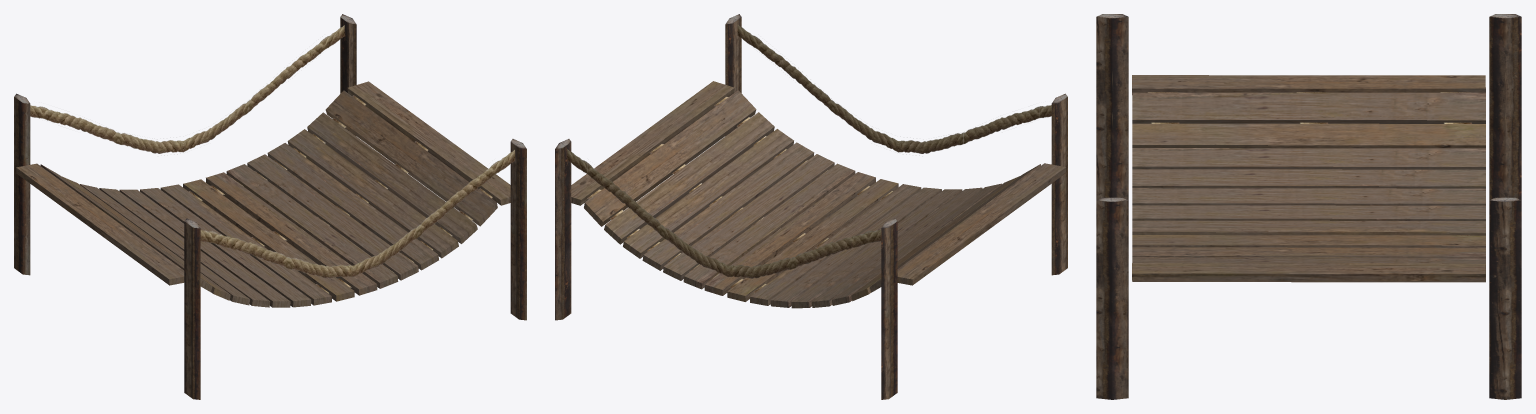
The model's file is Bridge_Segmented.glb.
3 renders of one model, left to right at view 1: azimuth 30°, elevation 25°; view 2: azimuth 150°, elevation 25°; view 3: azimuth 270°, elevation 25°, orthographic. The views are drawn at different scales.
Parts seen in each view (by area): view 1: Plank_15, Plank_14, Plank_13, Plank_00, Plank_12, Plank_16, Plank_11, Plank_10, Plank_09, Post_02, Plank_08, Post_00 (+13 smaller); view 2: Plank_15, Plank_14, Plank_13, Plank_00, Plank_12, Plank_16, Plank_11, Plank_10, Plank_09, Plank_08, Post_03, Post_01 (+13 smaller); view 3: Plank_01, Plank_02, Plank_03, Plank_04, Post_00, Post_01, Plank_00, Plank_05, Plank_16, Post_02, Post_03, Plank_06 (+5 smaller).
Boxes of the visible parts, bbox=[...] form: Plank_15: bbox=[325, 90, 497, 226]; Plank_14: bbox=[307, 112, 477, 243]; Plank_13: bbox=[287, 129, 458, 258]; Plank_00: bbox=[16, 163, 184, 285]; Plank_12: bbox=[267, 143, 438, 270]; Plank_16: bbox=[347, 81, 510, 205]; Plank_11: bbox=[247, 154, 418, 280]; Plank_10: bbox=[226, 164, 398, 288]; Plank_09: bbox=[206, 172, 377, 295]; Post_02: bbox=[184, 218, 200, 399]; Plank_08: bbox=[183, 179, 354, 301]; Post_00: bbox=[510, 139, 526, 320]; Plank_15: bbox=[584, 90, 756, 226]; Plank_14: bbox=[604, 112, 774, 244]; Plank_13: bbox=[623, 129, 793, 258]; Plank_00: bbox=[897, 163, 1065, 285]; Plank_12: bbox=[642, 142, 814, 270]; Plank_16: bbox=[571, 81, 734, 205]; Plank_11: bbox=[663, 154, 834, 280]; Plank_10: bbox=[683, 163, 855, 289]; Plank_09: bbox=[704, 172, 875, 295]; Plank_08: bbox=[727, 179, 898, 301]; Post_03: bbox=[881, 218, 897, 399]; Post_01: bbox=[555, 139, 571, 320]; Plank_01: bbox=[1132, 92, 1485, 123]; Plank_02: bbox=[1132, 123, 1485, 148]; Plank_03: bbox=[1132, 148, 1485, 169]; Plank_04: bbox=[1132, 169, 1485, 188]; Post_00: bbox=[1096, 197, 1128, 399]; Post_01: bbox=[1489, 197, 1521, 399]; Plank_00: bbox=[1132, 75, 1485, 94]; Plank_05: bbox=[1132, 188, 1485, 205]; Plank_16: bbox=[1132, 263, 1485, 280]; Post_02: bbox=[1096, 14, 1128, 199]; Post_03: bbox=[1489, 14, 1521, 199]; Plank_06: bbox=[1132, 205, 1485, 220].
Size of the model in its own units: 3.23 by 1.5 by 2.92.
Materials: 1 (1 with a texture image).
